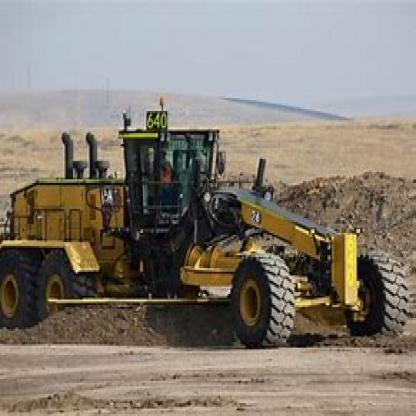bull_dozer/loader/grader: (4, 107, 402, 353)
